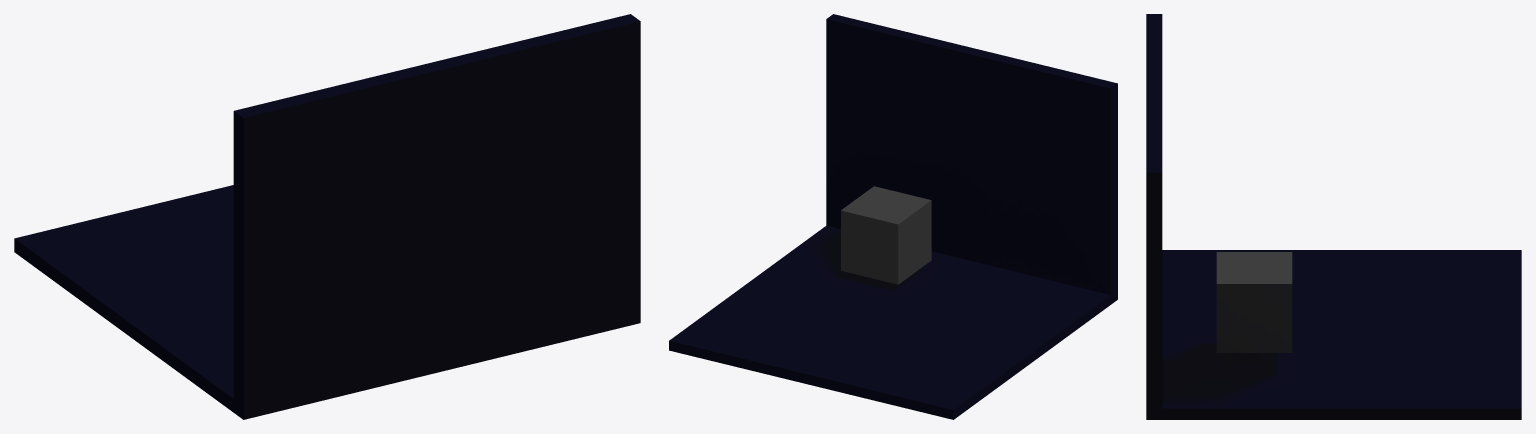
Rendered from Testy2.gltf.
3 renders of one model, left to right at view 1: azimuth 30°, elevation 25°; view 2: azimuth 150°, elevation 25°; view 3: azimuth 270°, elevation 25°, orthographic. The views are drawn at different scales.
Parts seen in each view (by area): view 1: TestStuff; view 2: TestStuff; view 3: TestStuff.
Part boxes in pixels (x1,y1,x2,y2): TestStuff: (14, 14, 640, 419); TestStuff: (669, 14, 1117, 419); TestStuff: (1146, 14, 1521, 419).
Bounding box in the file's own units: 8.11 × 5.89 × 8.11.
2 materials, 2 textured.
